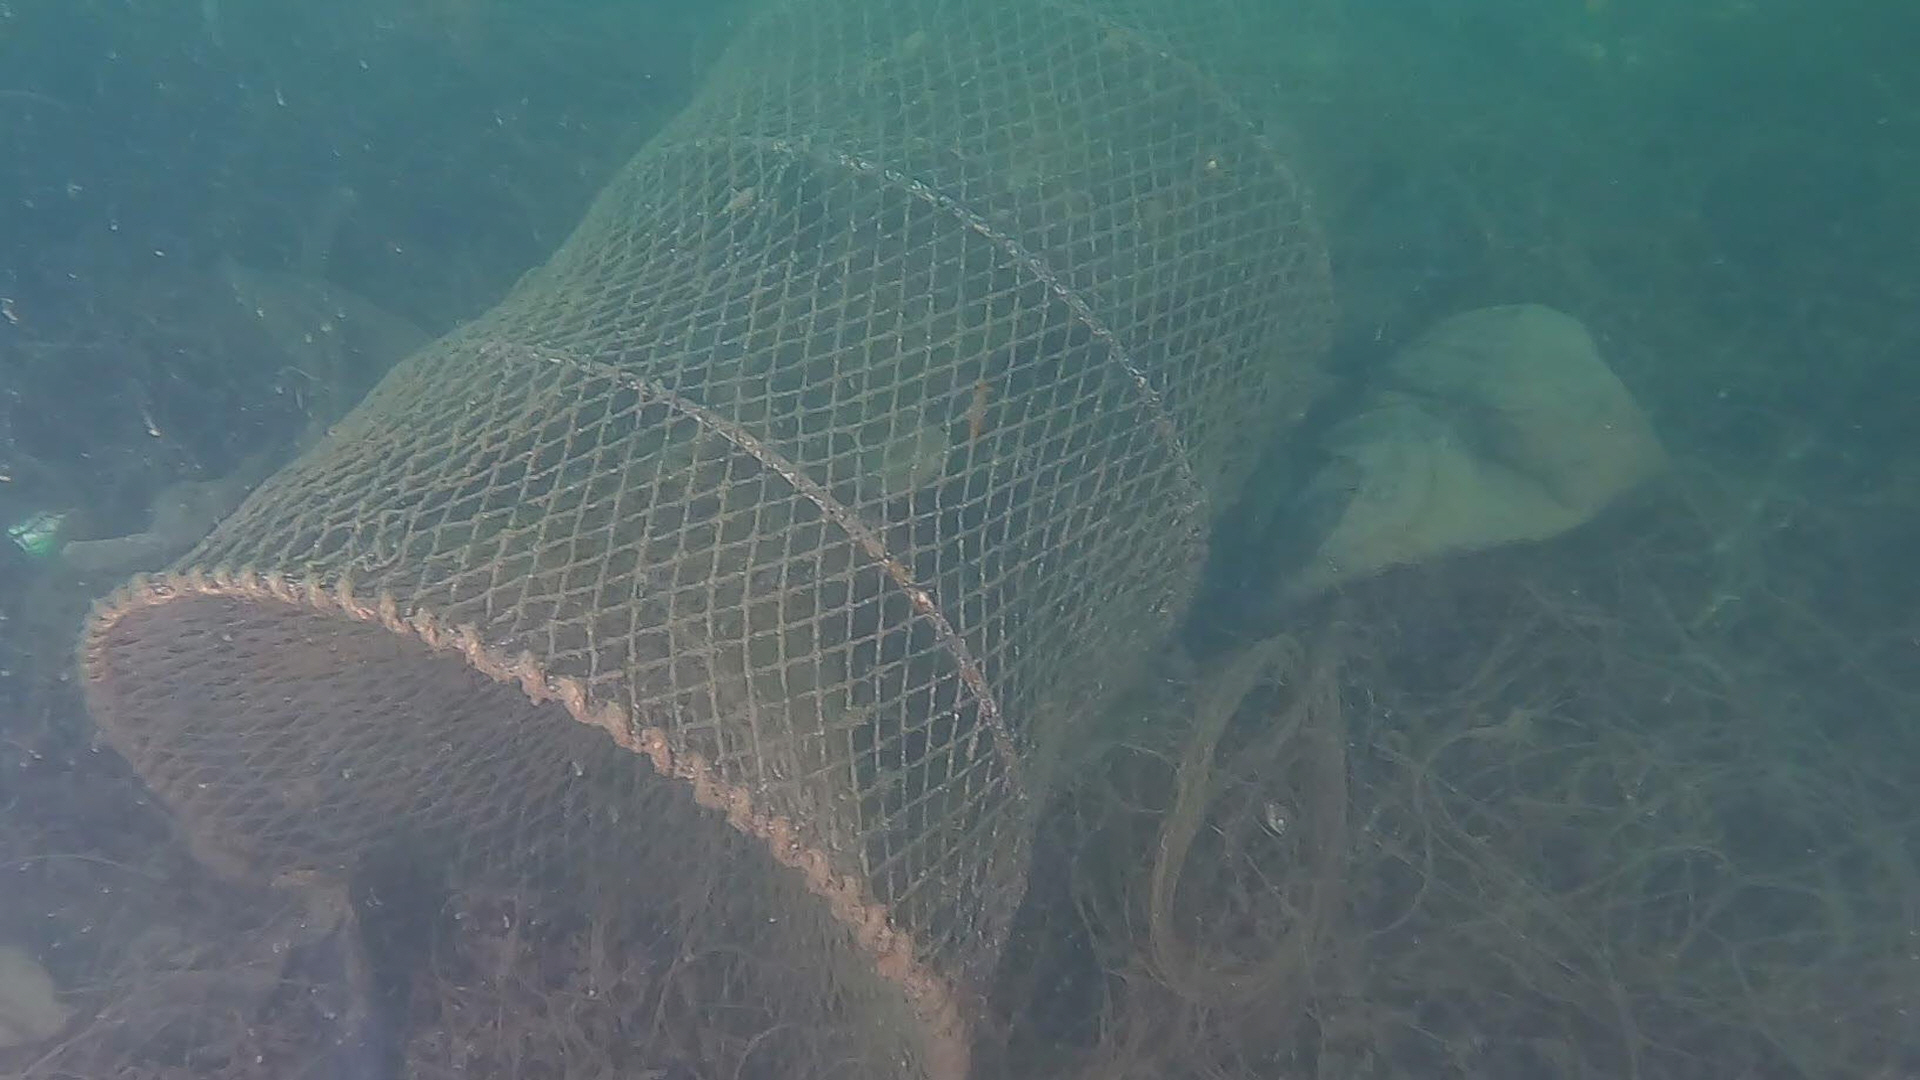spring fish trap: (70, 0, 1331, 1080)
